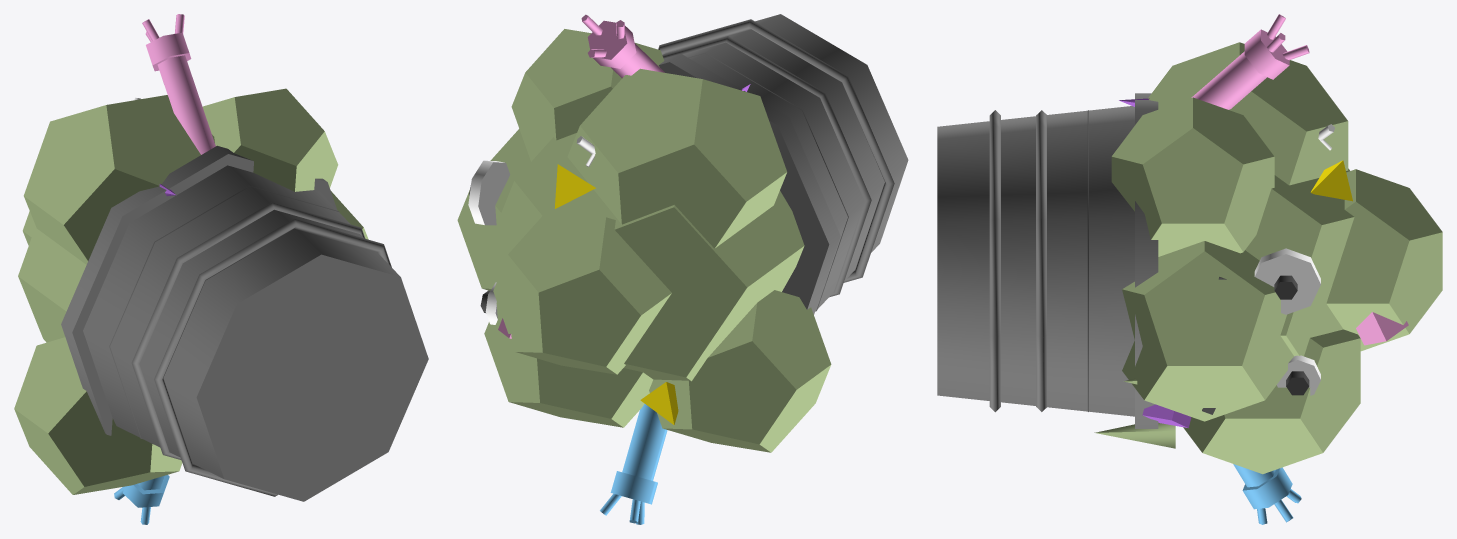
Rendered from Poubelle_Miasmax.fbx.
The picture shows the model from 3 angles, left to right: view 1: azimuth 30°, elevation 25°; view 2: azimuth 150°, elevation 25°; view 3: azimuth 270°, elevation 25°; orthographic projection. The views are drawn at different scales.
Parts seen in each view (by area): view 1: imagetostl_mesh0, imagetostl_mesh7, imagetostl_mesh9, imagetostl_mesh10, imagetostl_mesh1, imagetostl_mesh5, imagetostl_mesh2, imagetostl_mesh3, imagetostl_mesh25, imagetostl_mesh26, imagetostl_mesh31, imagetostl_mesh4; view 2: imagetostl_mesh7, imagetostl_mesh5, imagetostl_mesh8, imagetostl_mesh0, imagetostl_mesh9, imagetostl_mesh6, imagetostl_mesh10, imagetostl_mesh1, imagetostl_mesh2, imagetostl_mesh11, imagetostl_mesh3, imagetostl_mesh30 (+6 smaller); view 3: imagetostl_mesh0, imagetostl_mesh11, imagetostl_mesh10, imagetostl_mesh8, imagetostl_mesh6, imagetostl_mesh7, imagetostl_mesh5, imagetostl_mesh2, imagetostl_mesh3, imagetostl_mesh1, imagetostl_mesh15, imagetostl_mesh25 (+8 smaller).
Boxes of the visible parts, x1,y1,x2,y2 form: imagetostl_mesh0: (83, 165, 428, 501); imagetostl_mesh7: (23, 95, 214, 264); imagetostl_mesh9: (14, 337, 182, 494); imagetostl_mesh10: (202, 88, 338, 191); imagetostl_mesh1: (61, 145, 336, 435); imagetostl_mesh5: (18, 226, 86, 342); imagetostl_mesh2: (154, 218, 391, 496); imagetostl_mesh3: (131, 202, 365, 459); imagetostl_mesh25: (157, 55, 215, 154); imagetostl_mesh26: (146, 32, 191, 71); imagetostl_mesh31: (123, 475, 169, 507); imagetostl_mesh4: (109, 186, 339, 438); imagetostl_mesh7: (567, 68, 786, 248); imagetostl_mesh5: (488, 133, 804, 381); imagetostl_mesh8: (493, 208, 671, 374); imagetostl_mesh0: (683, 14, 908, 311); imagetostl_mesh9: (649, 290, 831, 452); imagetostl_mesh6: (484, 302, 653, 427); imagetostl_mesh10: (511, 29, 664, 161); imagetostl_mesh1: (658, 54, 840, 314); imagetostl_mesh2: (658, 19, 894, 282); imagetostl_mesh11: (457, 129, 530, 290); imagetostl_mesh3: (662, 36, 871, 297); imagetostl_mesh30: (622, 404, 667, 480); imagetostl_mesh0: (937, 106, 1134, 416); imagetostl_mesh11: (1122, 241, 1293, 421); imagetostl_mesh10: (1111, 97, 1274, 256); imagetostl_mesh8: (1326, 169, 1442, 351); imagetostl_mesh6: (1183, 329, 1360, 474); imagetostl_mesh7: (1148, 42, 1348, 185); imagetostl_mesh5: (1245, 168, 1354, 356); imagetostl_mesh2: (989, 110, 1000, 412); imagetostl_mesh3: (1036, 110, 1046, 411); imagetostl_mesh1: (1135, 93, 1158, 428); imagetostl_mesh15: (1254, 248, 1320, 314); imagetostl_mesh25: (1191, 51, 1266, 109).
Bounding box in the file's own units: 341 × 488 × 435.
